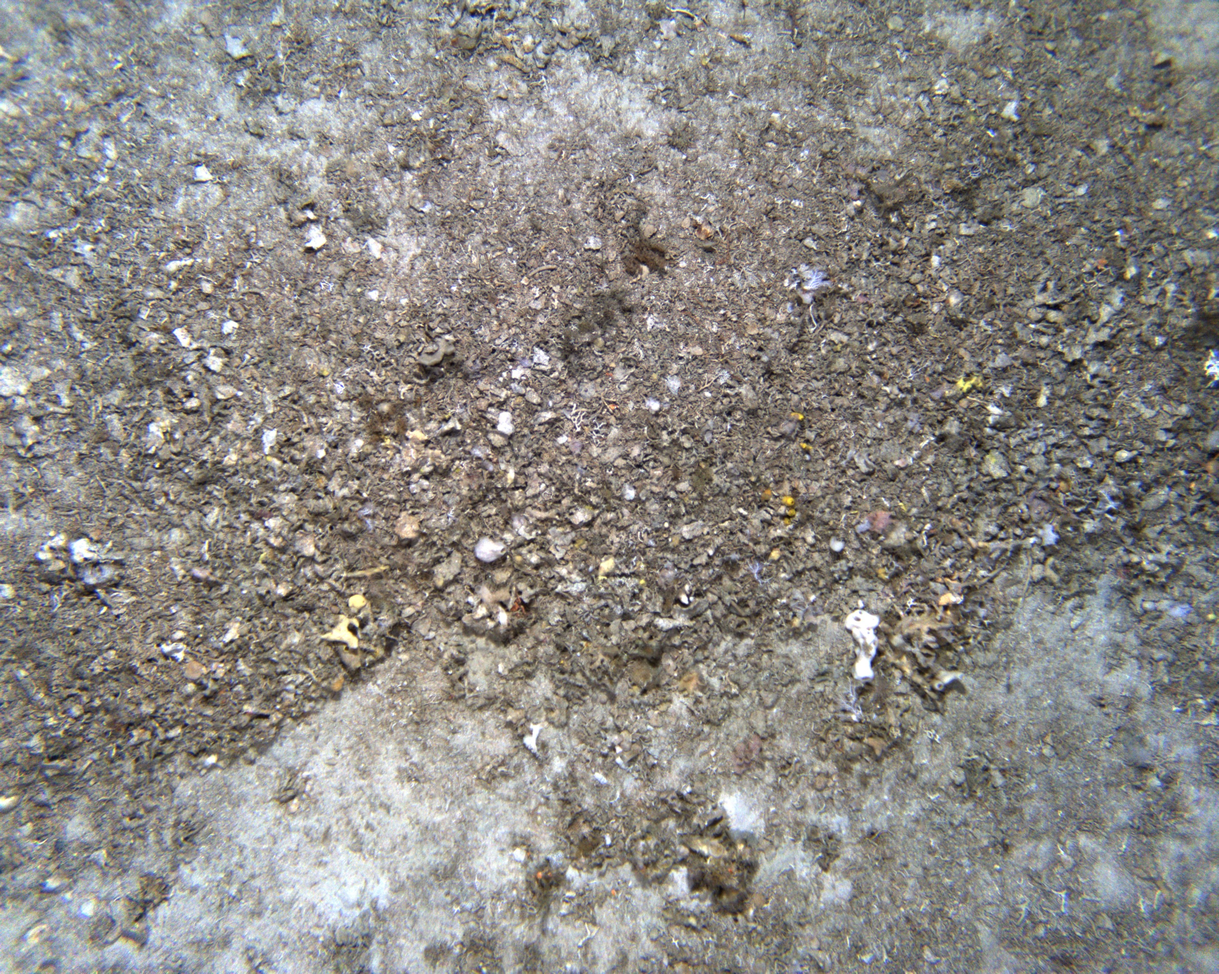Brachionichthyidae: (189, 564, 249, 594)
